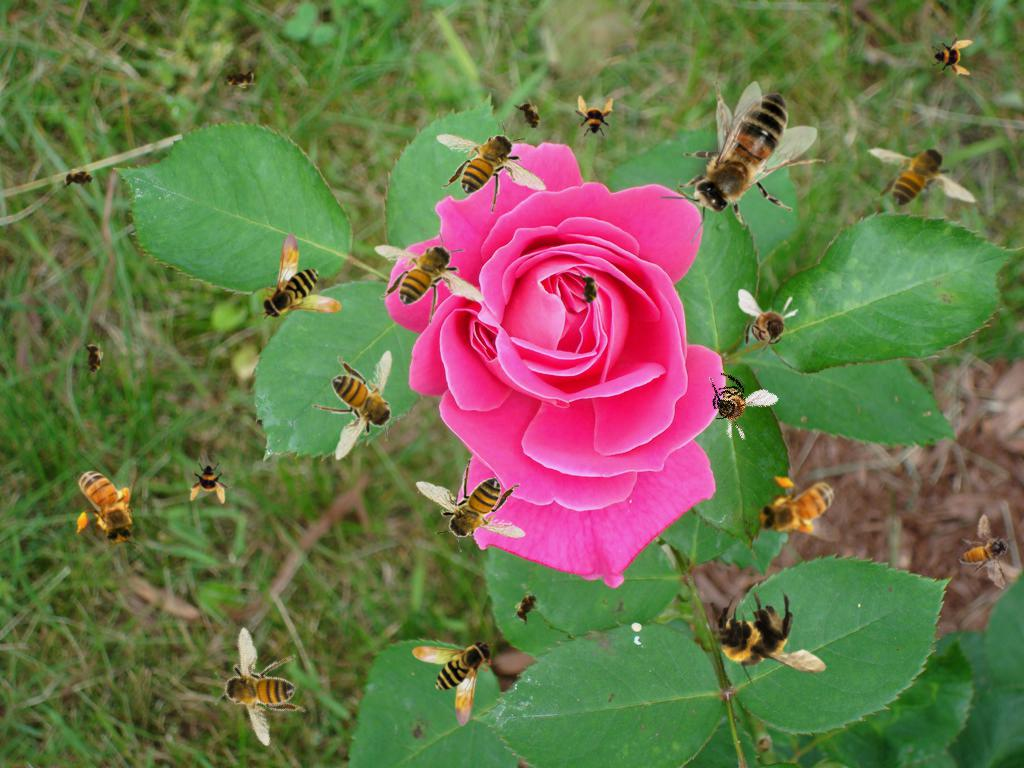Bee: (659, 81, 826, 243), (187, 611, 330, 757), (713, 586, 828, 693), (415, 458, 526, 552), (436, 120, 547, 214), (374, 231, 485, 325), (312, 350, 406, 461), (867, 133, 978, 227), (687, 360, 780, 450), (749, 469, 849, 548), (260, 232, 342, 320), (412, 639, 494, 727), (73, 458, 141, 551), (956, 511, 1016, 590), (738, 289, 799, 359), (188, 460, 232, 504), (571, 95, 615, 139), (929, 33, 973, 77), (506, 584, 548, 630), (511, 93, 549, 139), (578, 270, 600, 310), (59, 168, 99, 190), (219, 67, 259, 89), (82, 339, 104, 379)
